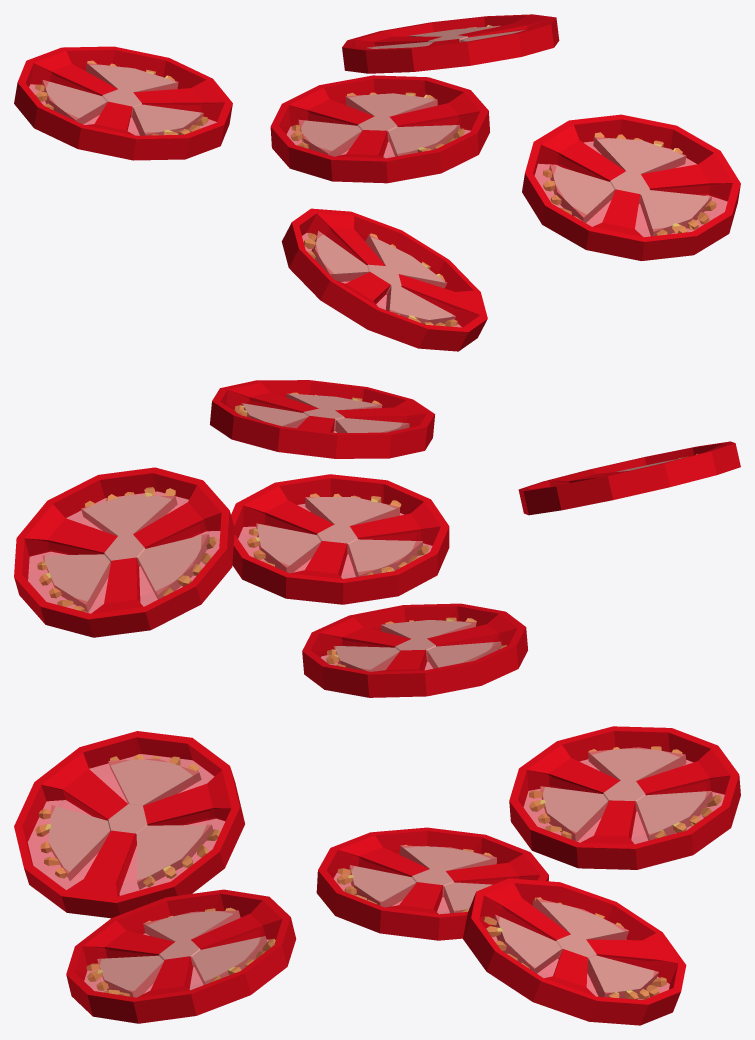
The model's file is Plate_Tomato.fbx.
3 renders of one model, top to bottom at view 1: azimuth 30°, elevation 25°; view 2: azimuth 150°, elevation 25°; view 3: azimuth 270°, elevation 25°, orthographic. The views are drawn at different scales.
Visible parts, largest first — view 1: Plate.Tomato; view 2: Plate.Tomato; view 3: Plate.Tomato.
Part boxes in pixels (left/top/right/bottom): Plate.Tomato: left=14, top=14, right=740, bottom=351; Plate.Tomato: left=14, top=380, right=740, bottom=697; Plate.Tomato: left=14, top=726, right=740, bottom=1025.
Bounding box in the file's own units: 37.87 × 8.07 × 45.85.
